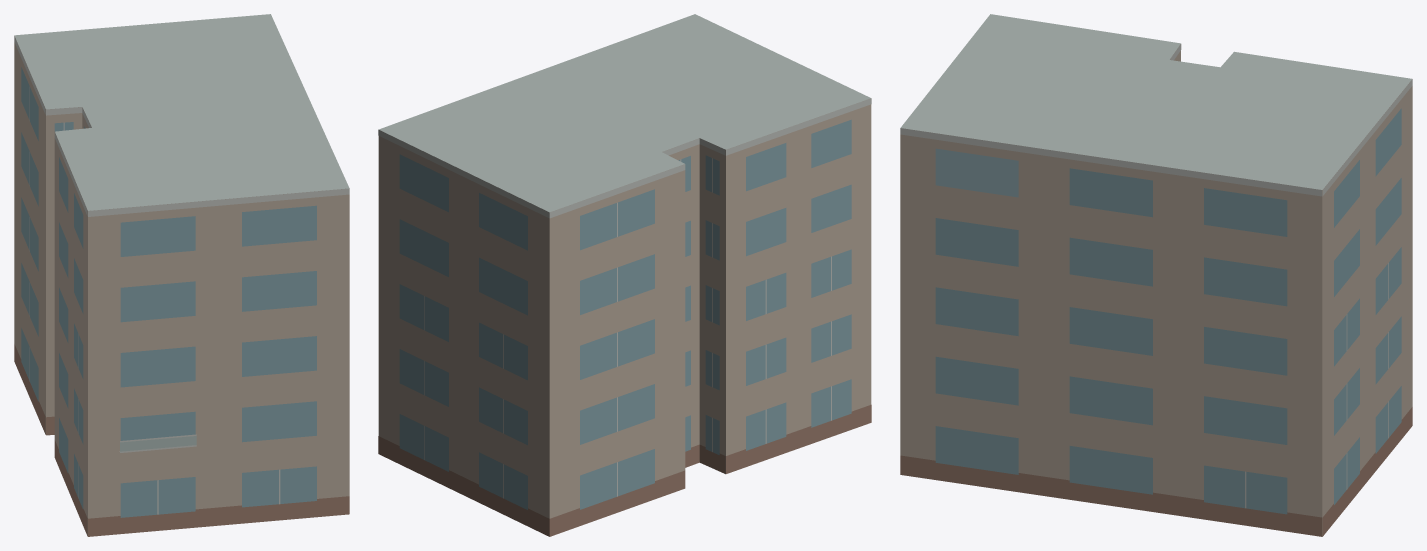
File: survey-upis-32779578.glb
3 renders of one model, left to right at view 1: azimuth 30°, elevation 25°; view 2: azimuth 150°, elevation 25°; view 3: azimuth 270°, elevation 25°, orthographic. The views are drawn at different scales.
Visible parts, largest first — view 1: survey-upis-32779578.tmp; view 2: survey-upis-32779578.tmp; view 3: survey-upis-32779578.tmp.
Boxes of the visible parts, box(x1,y1,x2,y2) form: survey-upis-32779578.tmp: box(14, 14, 349, 536); survey-upis-32779578.tmp: box(378, 14, 871, 536); survey-upis-32779578.tmp: box(900, 14, 1412, 536).
Size of the model in its own units: 14.16 by 13 by 17.41.
